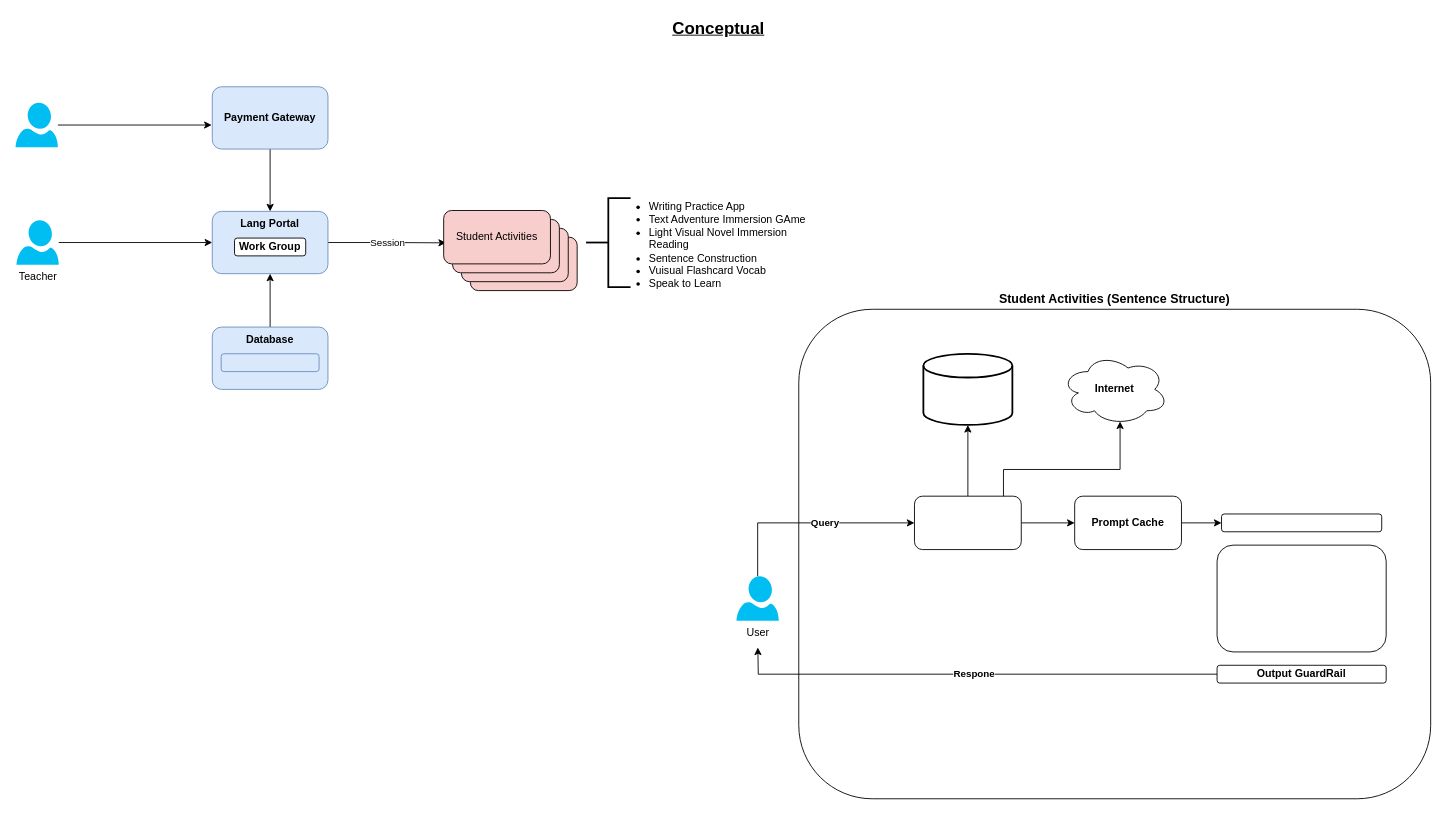
Image size: 1446x814. Some labels were removed from this diagram. The shapes that lost their labels are listed below. From the top down, each one's centre as x and y in pixels, then its label:
point 36,124: Student
point 269,362: Core 2000 Words
point 967,388: Vector Database
point 967,522: RAG
point 1301,522: Input GuardRail
point 1301,598: LLM 7B
